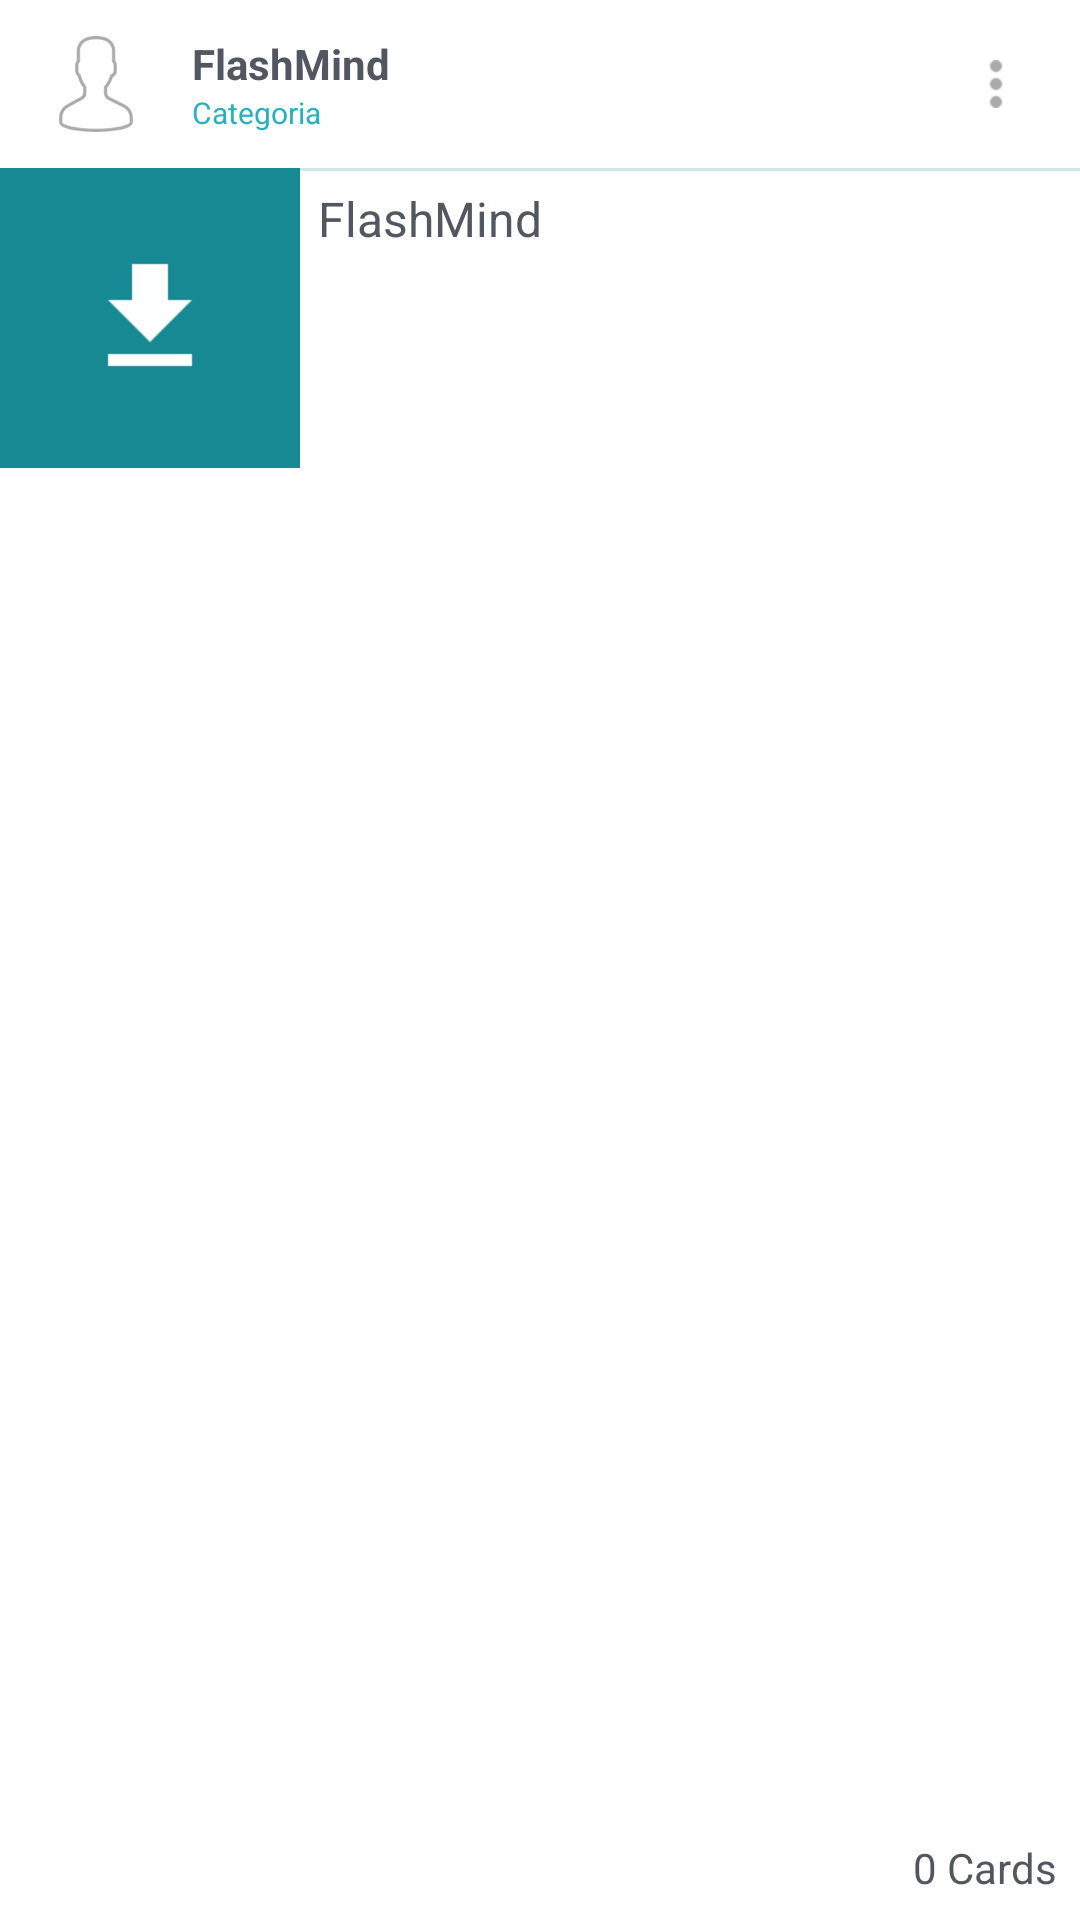

Locate icon controls on the screen. Image size 1080*1920, boxes as (x1, y1, x2, y2).
get app: (0, 168, 300, 468)
three dots: (990, 60, 1002, 108)
